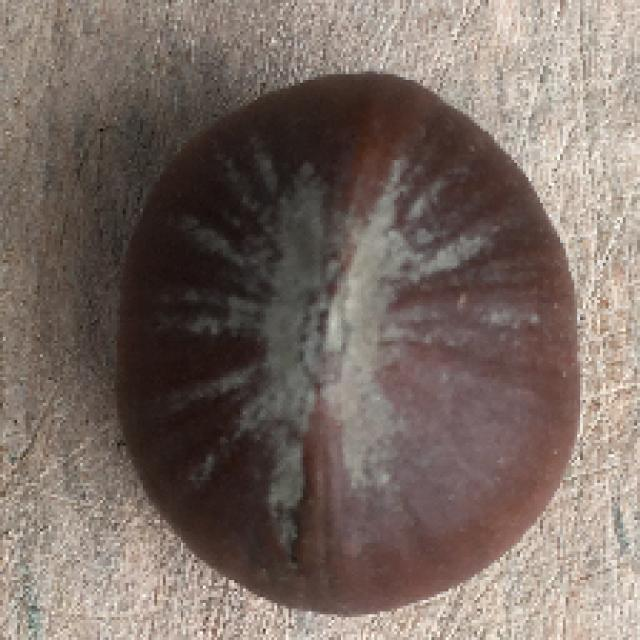damagedHazelnut: (114, 71, 579, 615)
